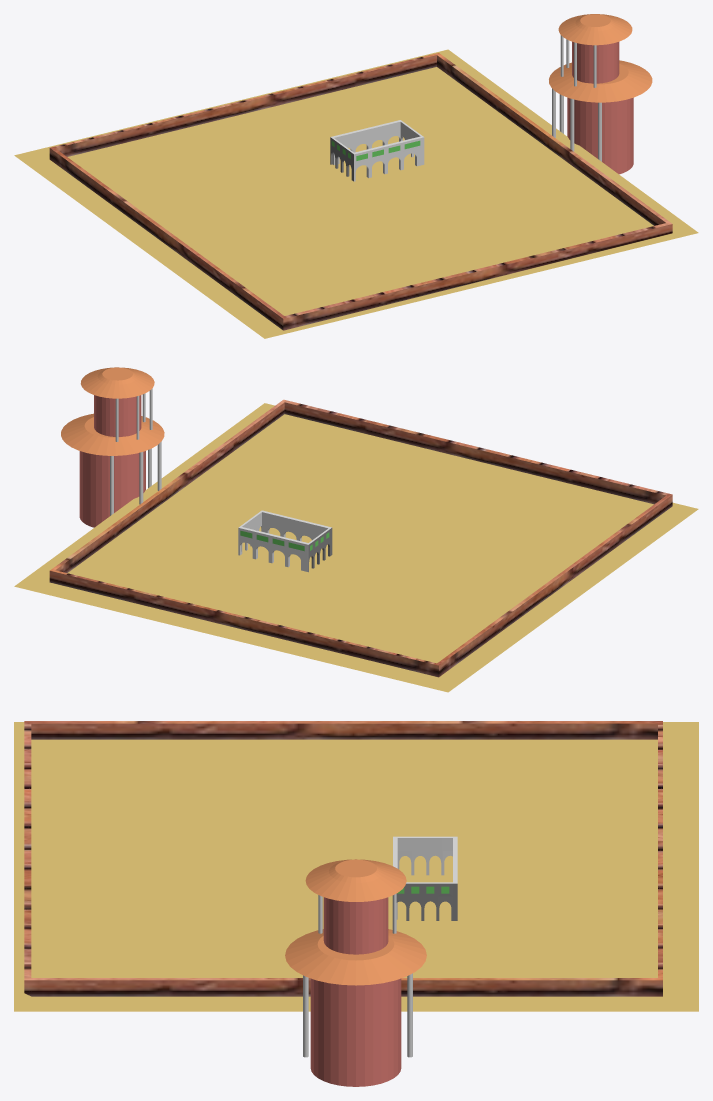
Rendered from KiricoMap.glb.
The picture shows the model from 3 angles, top to bottom: view 1: azimuth 30°, elevation 25°; view 2: azimuth 150°, elevation 25°; view 3: azimuth 270°, elevation 25°; orthographic projection. The views are drawn at different scales.
Parts seen in each view (by area): view 1: Ground, Walls, ConstructionBase, ConstructionTop, Arco; view 2: Ground, Walls, ConstructionBase, ConstructionTop, Arco; view 3: Ground, Walls, ConstructionBase, ConstructionTop, Arco.
Part boxes in pixels (x1=…): Ground: x1=14, y1=49, x2=698, y2=338; Walls: x1=49, y1=53, x2=672, y2=330; ConstructionBase: x1=549, y1=60, x2=652, y2=174; ConstructionTop: x1=558, y1=14, x2=632, y2=87; Arco: x1=330, y1=120, x2=424, y2=181; Ground: x1=14, y1=403, x2=698, y2=692; Walls: x1=49, y1=399, x2=672, y2=677; ConstructionBase: x1=61, y1=413, x2=164, y2=527; ConstructionTop: x1=80, y1=367, x2=154, y2=441; Arco: x1=238, y1=510, x2=332, y2=572; Ground: x1=14, y1=722, x2=698, y2=1011; Walls: x1=24, y1=721, x2=662, y2=996; ConstructionBase: x1=285, y1=929, x2=426, y2=1086; ConstructionTop: x1=305, y1=859, x2=406, y2=954; Arco: x1=393, y1=836, x2=457, y2=920.
Size of the model in its own units: 114 by 30.93 by 97.42.
Materials: 7 (1 with a texture image).
